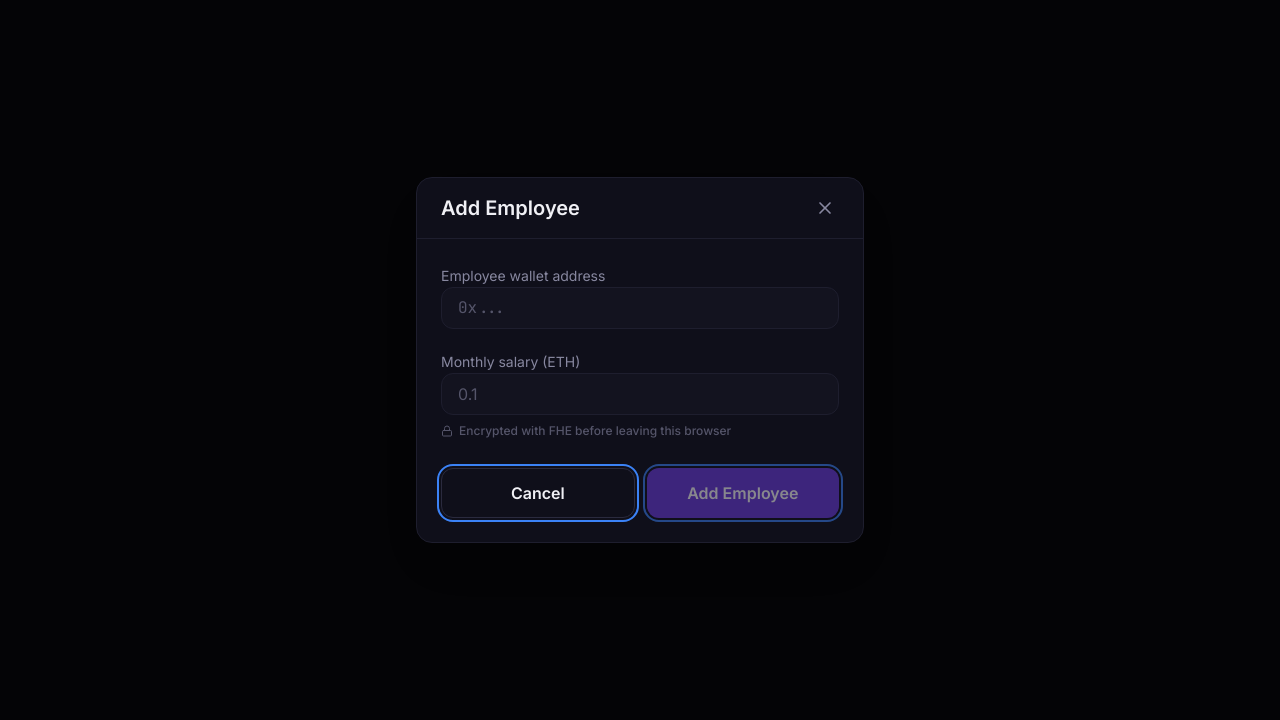
Test: AddEmployeeModal › error handling › shows the error state when the transaction is rejected by the wallet
Type "0xCa21b5f07a126F649EBFFAE82F997334e85E00AF" into the field with placeholder "0x...".
click(640, 308); type("0xCa21b5f07a126F649EBFFAE82F997334e85E00AF")  # box x1=441 y1=287 x2=839 y2=329
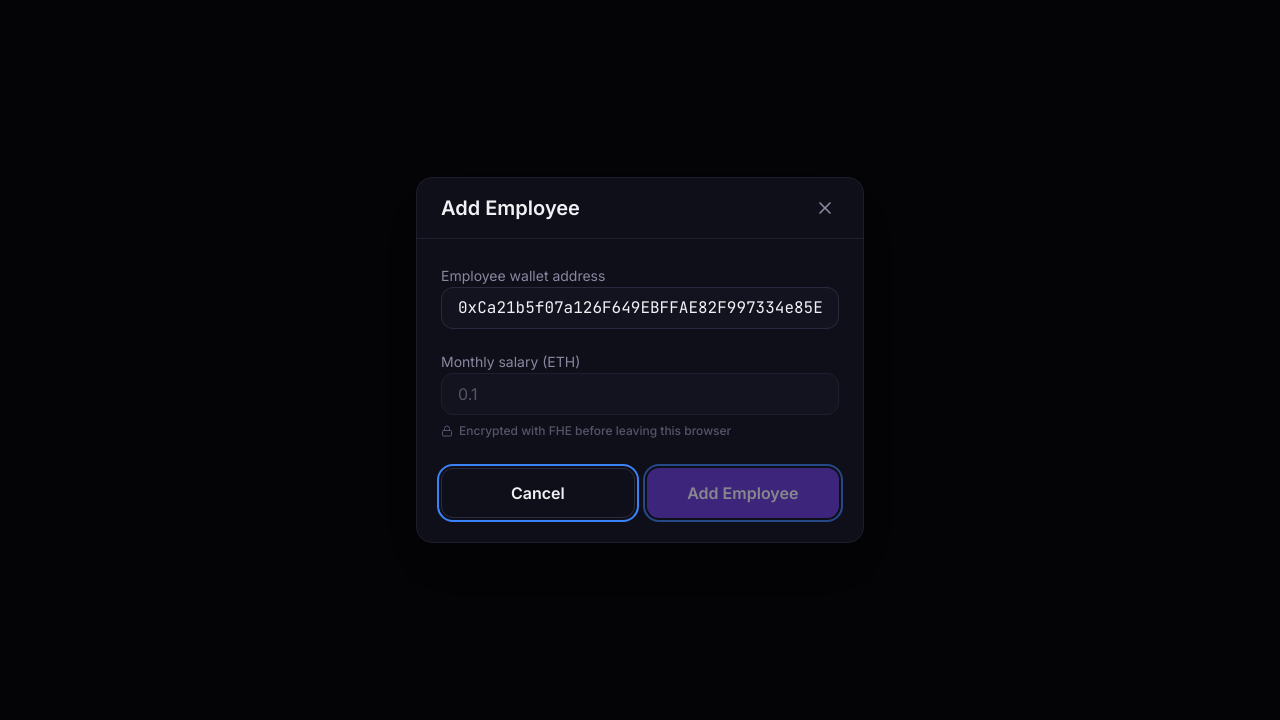
Type "0.05" into the number field with placeholder "0.1".
click(640, 394); type("0.05")  # box x1=441 y1=373 x2=839 y2=415
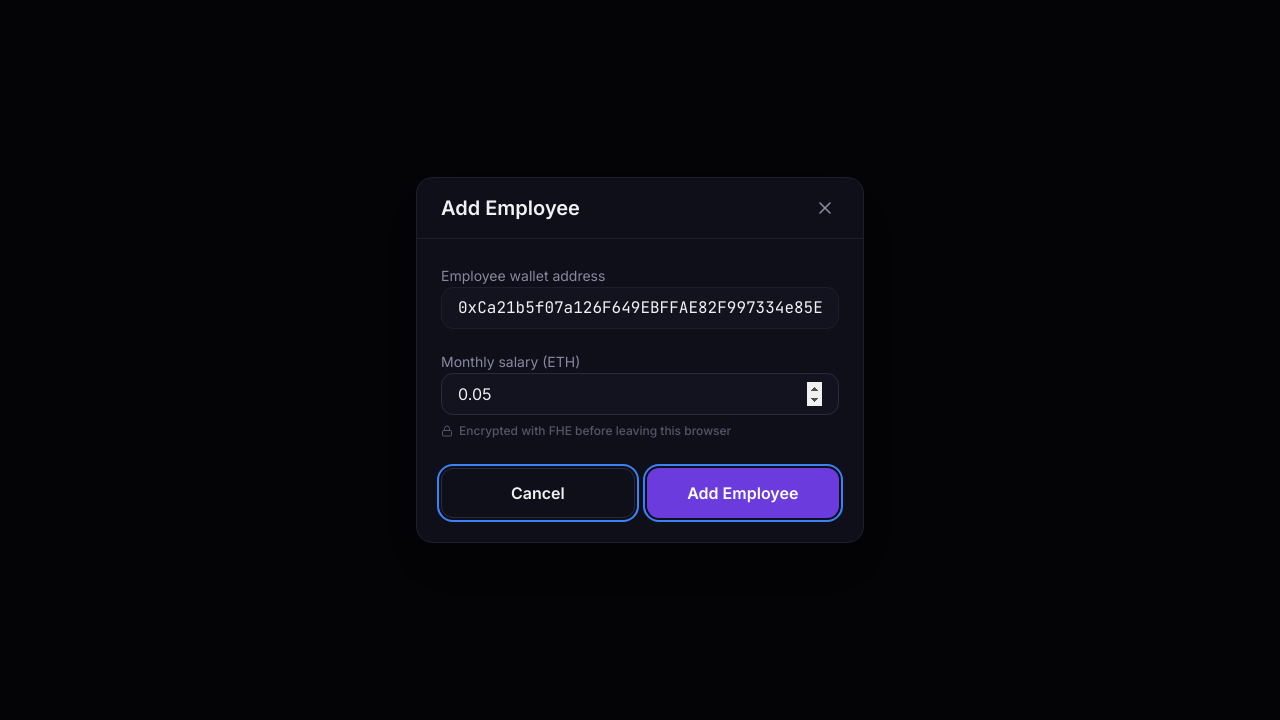
Click the button "Add Employee".
click(743, 493)  # box x1=647 y1=468 x2=839 y2=518
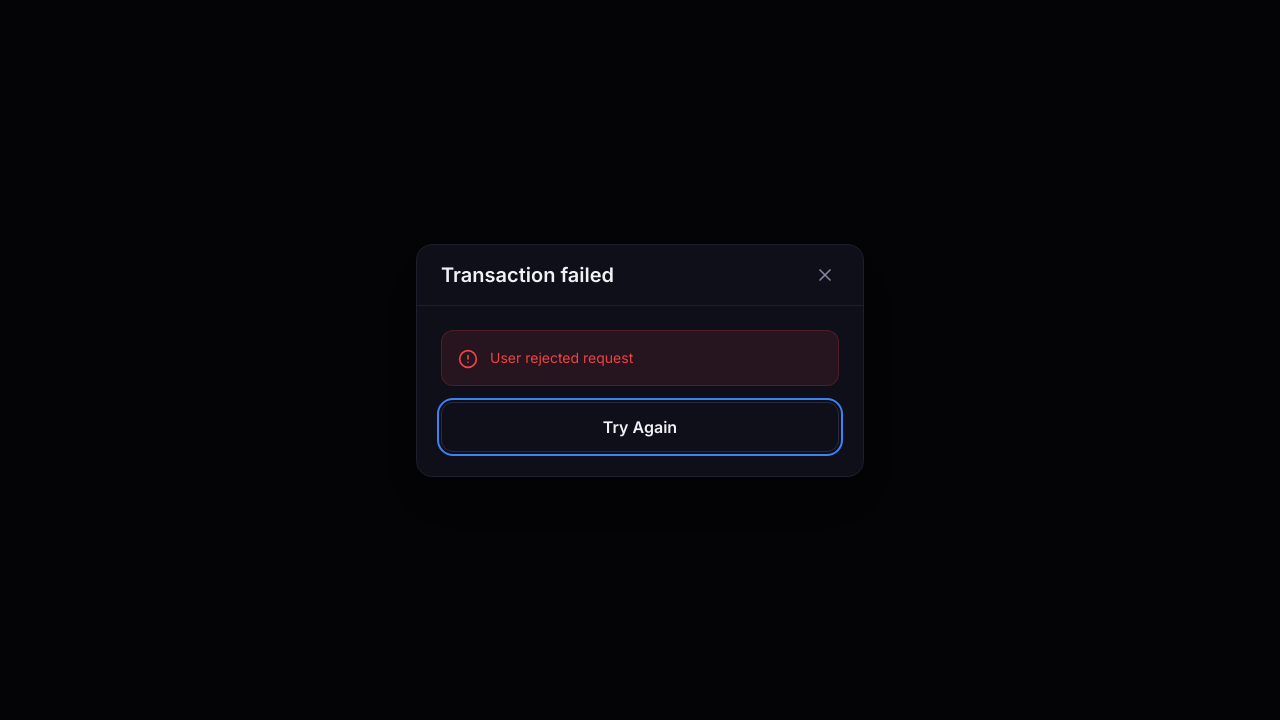
Result: the text "User rejected request" is shown at x1=490 y1=346 x2=633 y2=368
